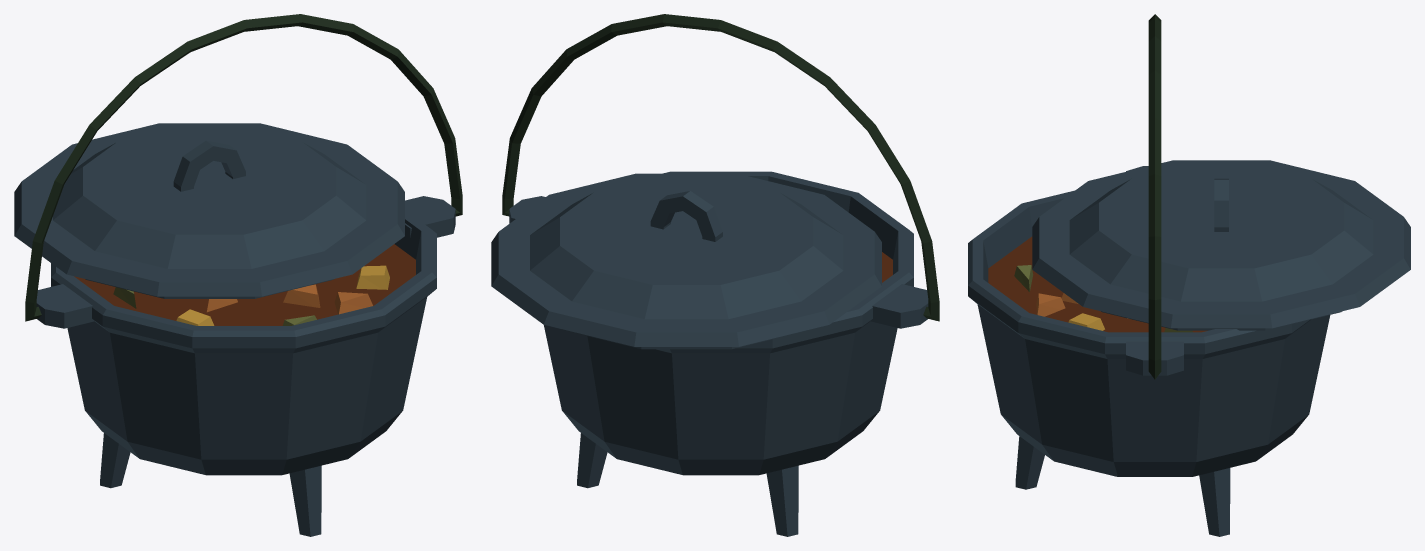
The model's file is camp-dutch-oven-843dda.glb.
3 views of the same model, side by side, from view 1: azimuth 30°, elevation 25°; view 2: azimuth 150°, elevation 25°; view 3: azimuth 270°, elevation 25° (orthographic). The views are drawn at different scales.
Visible parts, largest first — view 1: pot-body, lid-shell, bail-wire; view 2: lid-shell, pot-body, bail-wire; view 3: pot-body, lid-shell, bail-wire.
Part boxes in pixels (x1,y1,x2,y2): pot-body: (36, 196, 455, 536); lid-shell: (14, 123, 404, 298); bail-wire: (25, 14, 462, 321); lid-shell: (491, 173, 881, 349); pot-body: (509, 171, 928, 536); bail-wire: (502, 14, 939, 321); pot-body: (968, 166, 1330, 536); lid-shell: (1032, 160, 1410, 330); bail-wire: (1148, 14, 1161, 379).
Bounding box in the file's own units: 0.4044 × 0.4092 × 0.366.
